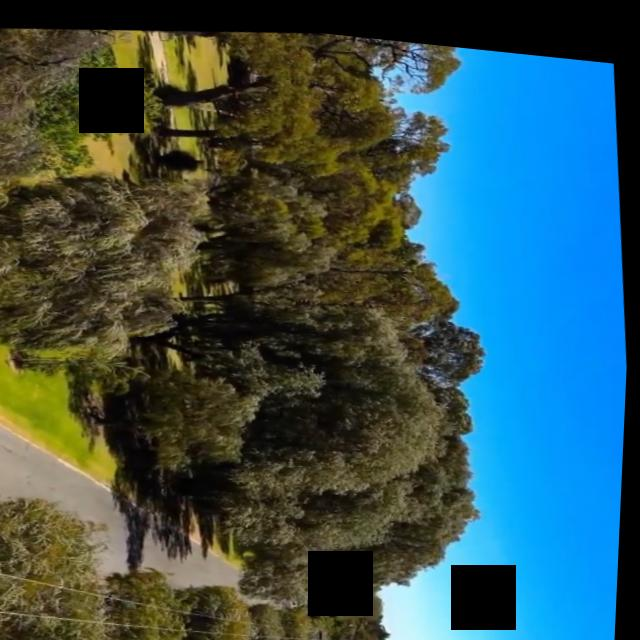Pole: (255, 613, 342, 640), (318, 622, 366, 640)
Tree: (88, 236, 512, 621), (0, 150, 230, 373), (154, 64, 454, 220), (0, 11, 189, 205), (170, 14, 481, 109), (0, 489, 120, 640), (104, 558, 198, 640), (181, 573, 275, 640)
